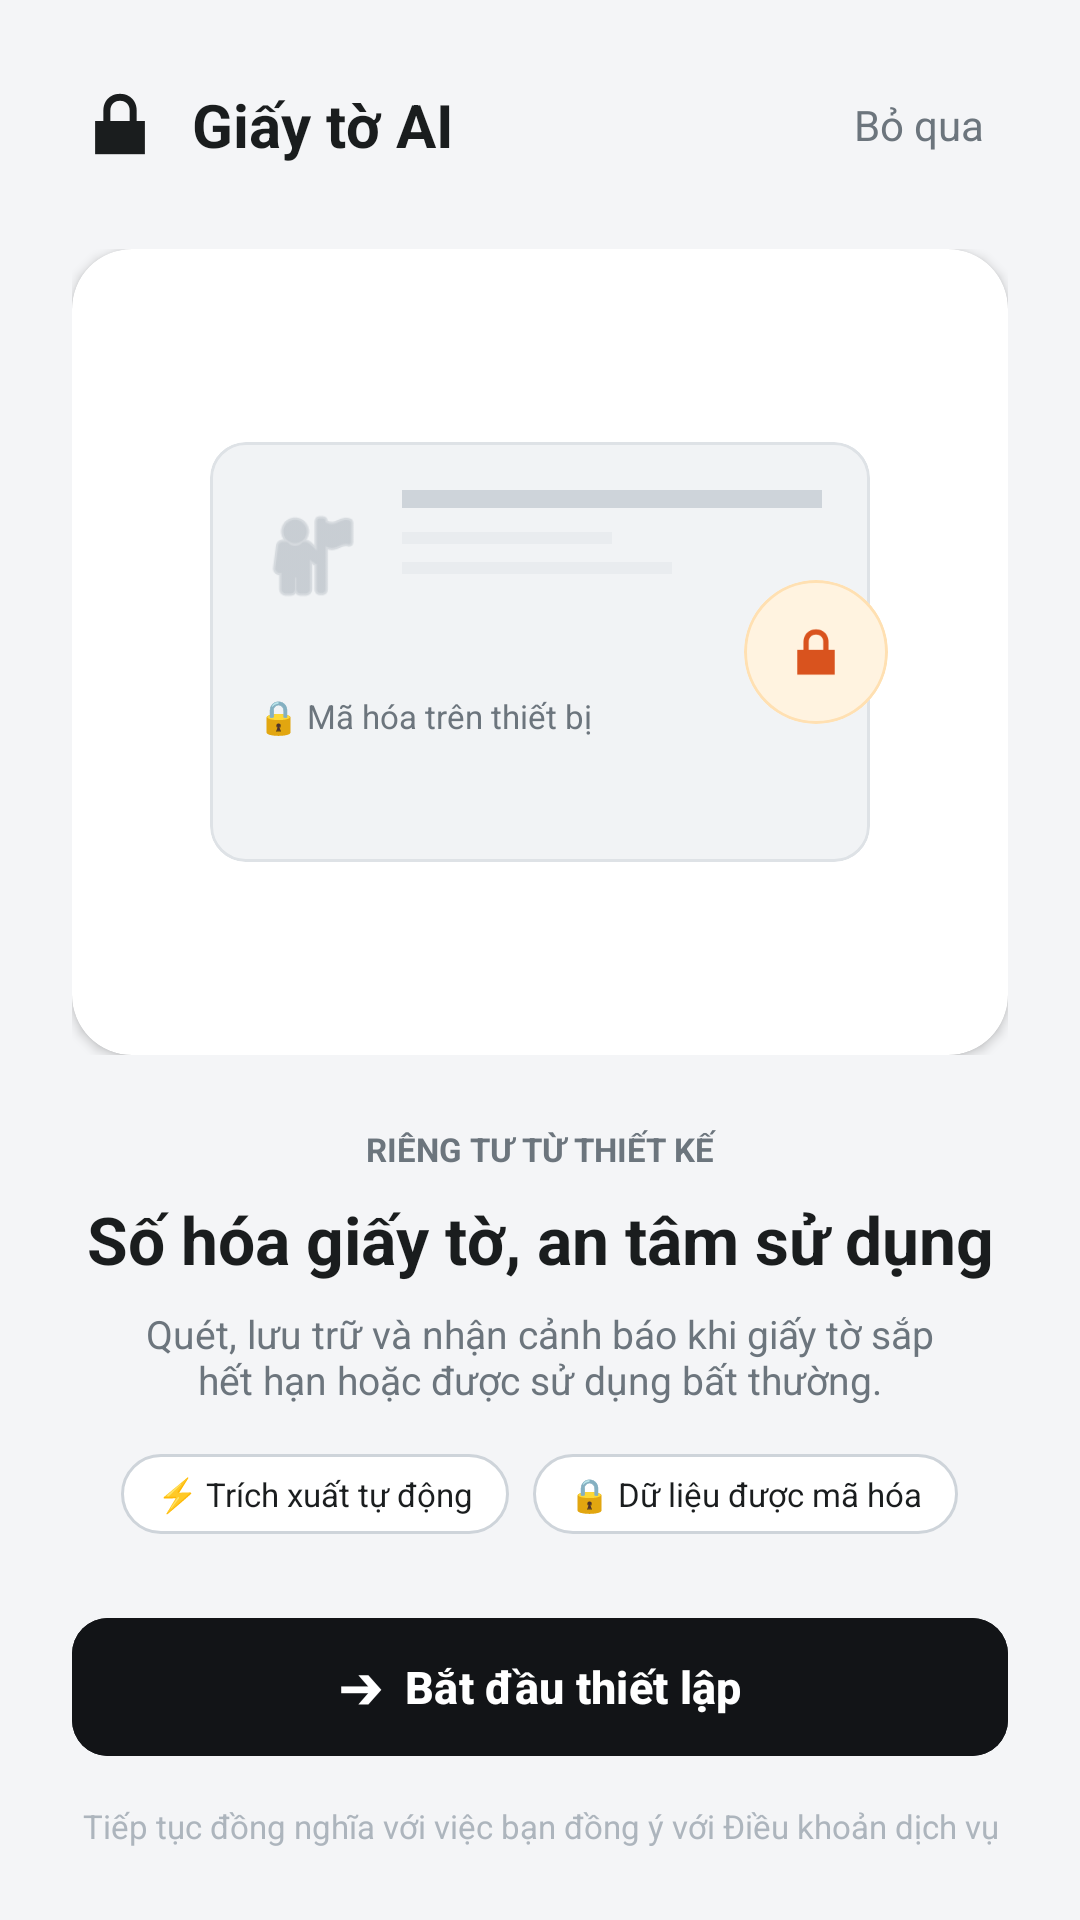

Named icons in this screenshot (1080 x 1920) and their centers, (x,y):
lock: (120,124), (816,652)
